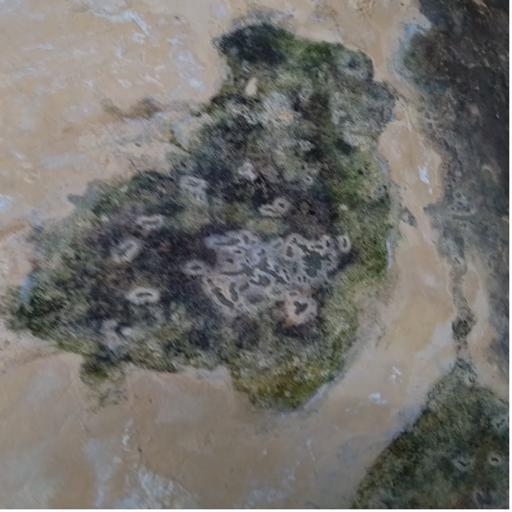algae: (15, 14, 416, 428)
